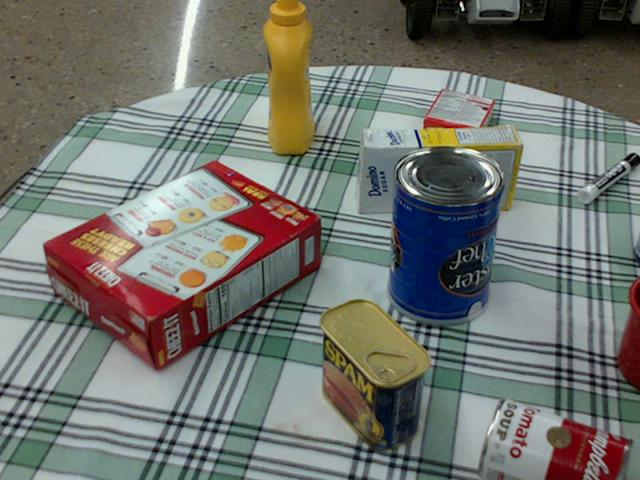cracker_box: (43, 162, 318, 369)
gelatin_box: (422, 88, 494, 147)
large_marker: (577, 152, 639, 202)
master_chef_can: (387, 144, 507, 323)
mug: (616, 276, 639, 390)
mustard_bottle: (262, 0, 312, 153)
potted_meat_can: (319, 298, 430, 448)
sugar_box: (356, 125, 522, 214)
tomato_soup_can: (479, 398, 633, 479)
tuna_fish_can: (634, 235, 639, 264)
